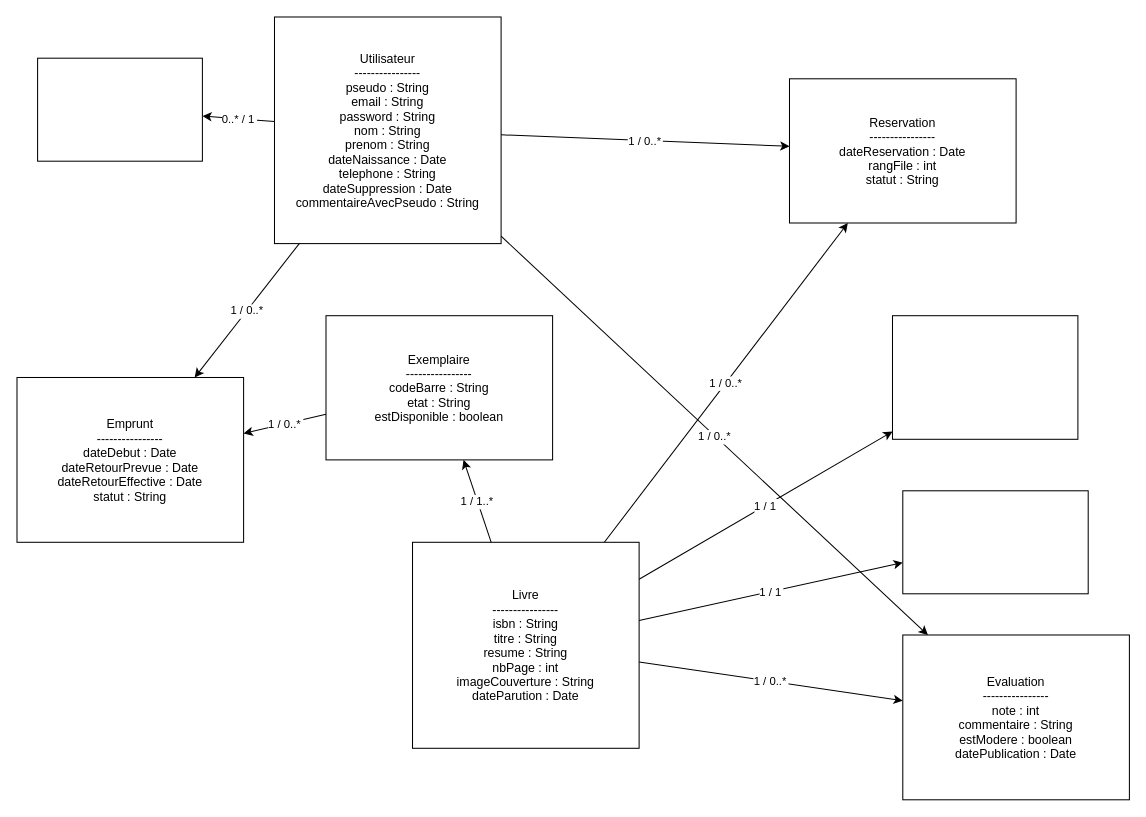
Image size: 1146x817. Some labels were removed from this diagram. The box of each missing label's shape, as (x1, y1, x2, y2) in pixels:
Auteur ---------------- nom : String prenom : String: (891, 315, 1078, 439)
Categorie ---------------- libelle : String: (902, 490, 1088, 594)
Role ---------------- libelle : String: (37, 57, 202, 161)
